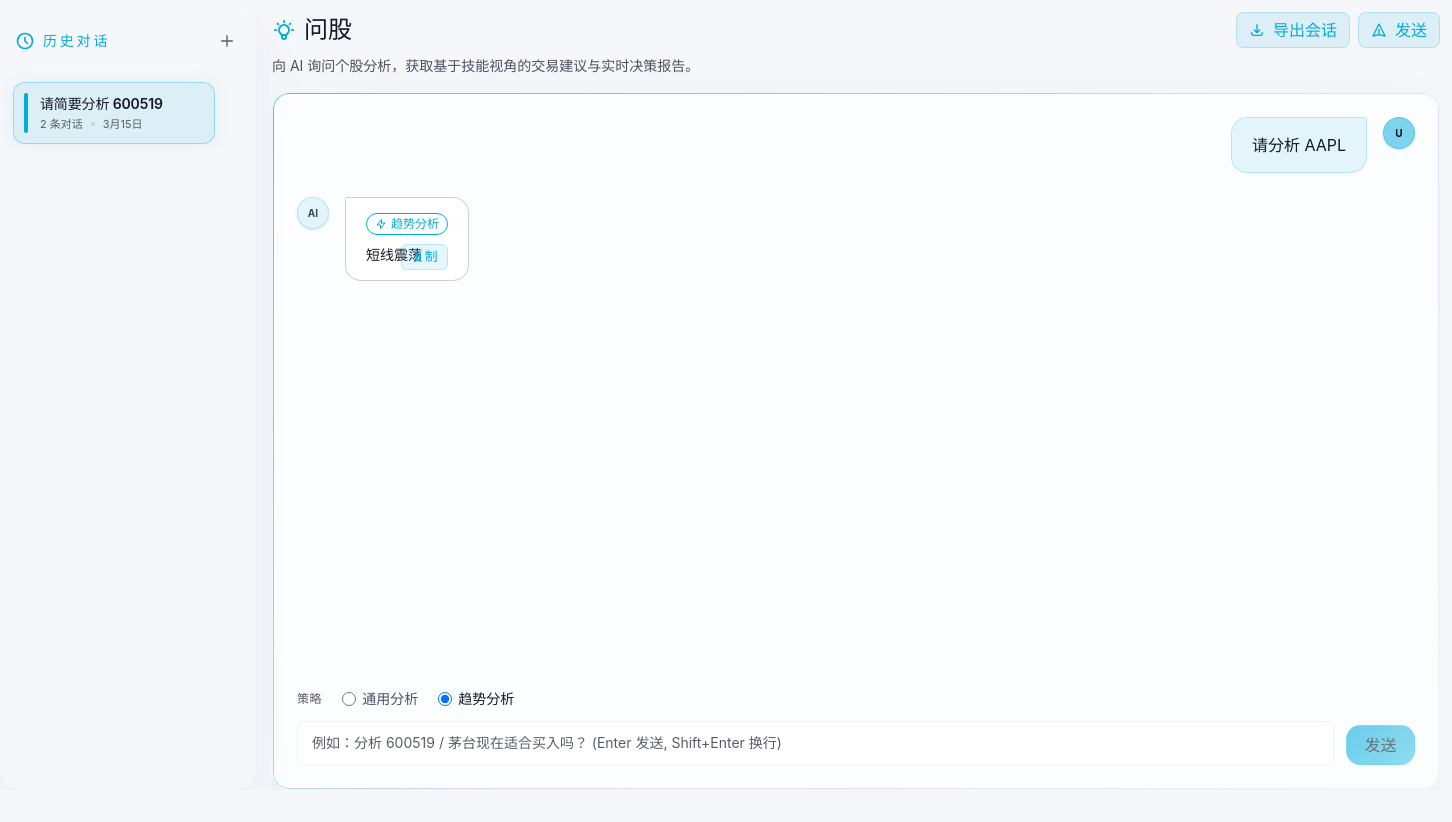
Scenario: ChatPage › shows parsed error feedback when notification delivery fails
Click the button titled "发送到已配置的通知机器人/邮箱" in the row of "问股": (1399, 30) [1358,12,1440,48]
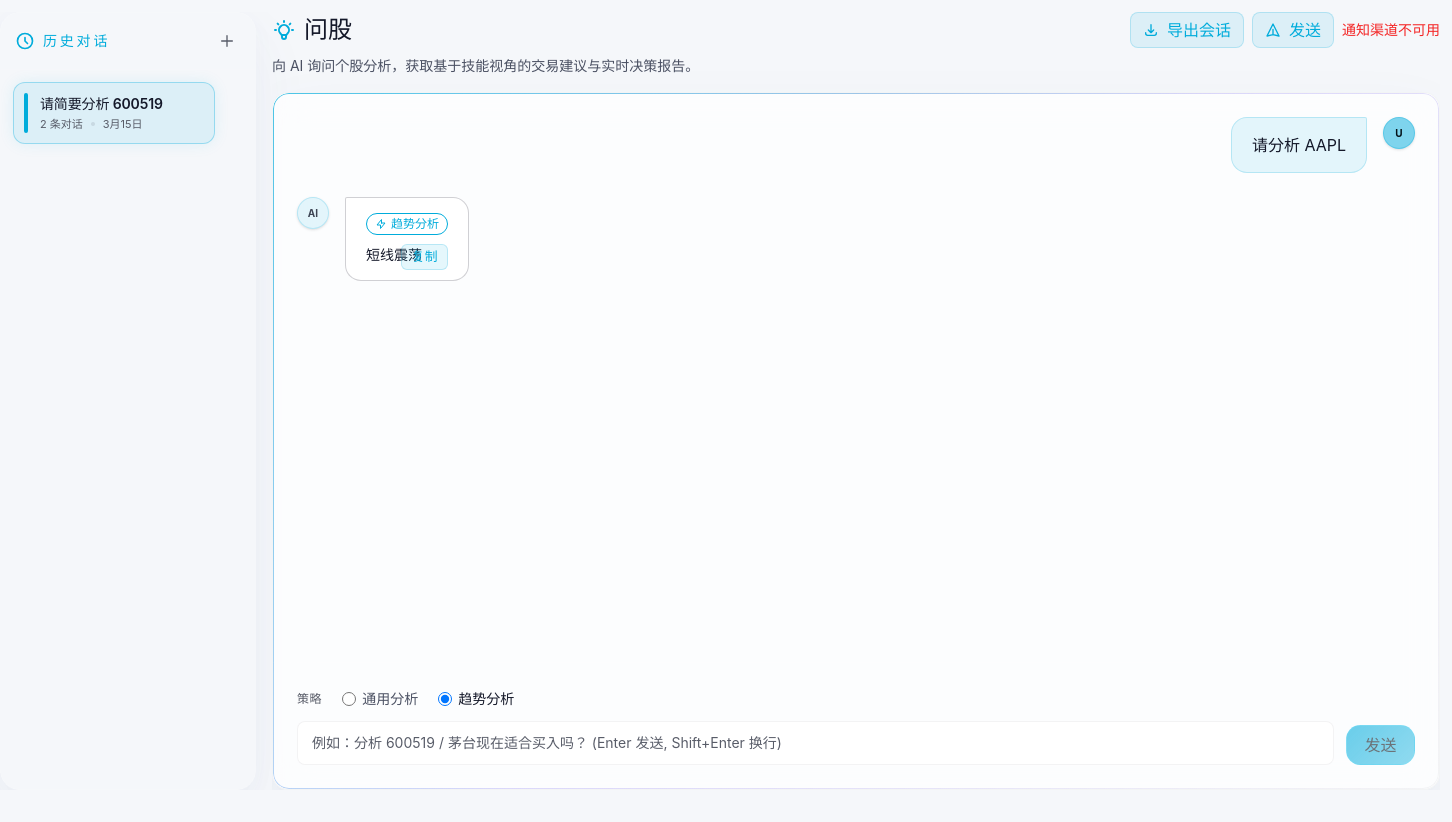
Expected: the text "通知渠道不可用" is shown, [1342,20,1440,40]
